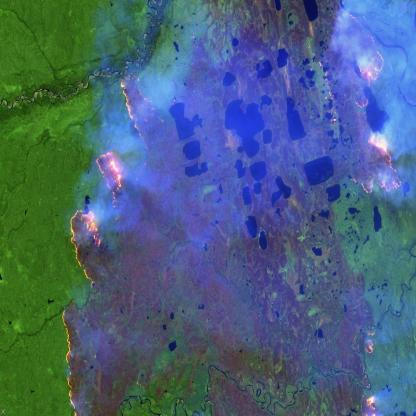fire: (308, 0, 406, 200), (107, 57, 171, 149), (66, 204, 108, 286), (353, 320, 385, 416), (89, 145, 128, 212), (58, 300, 80, 414)
